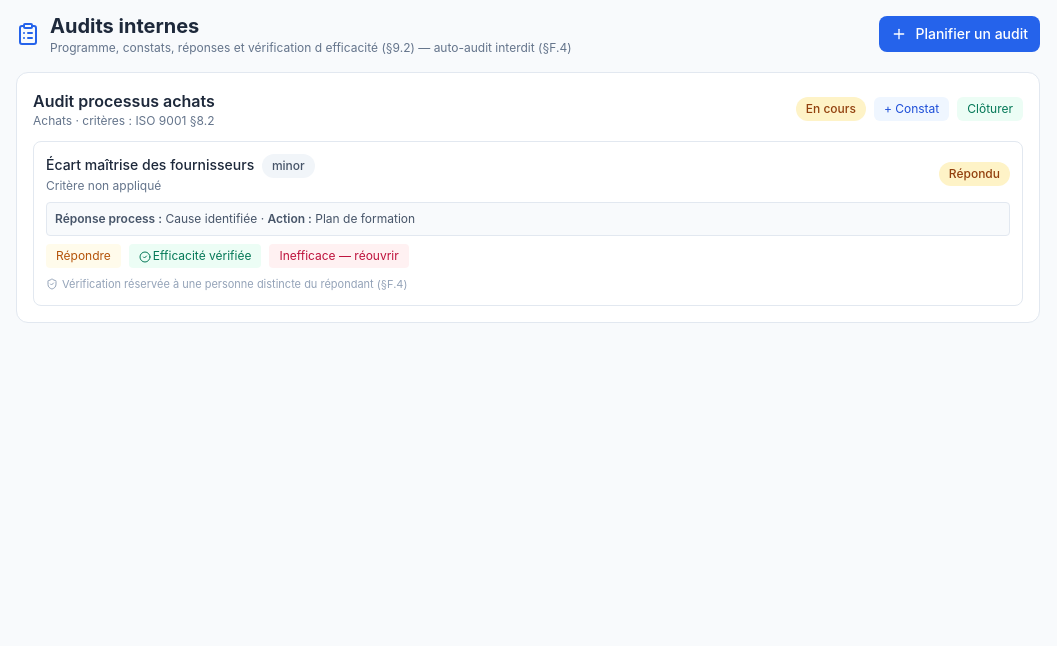
Scenario: Page Audits (§9.2) › un auditeur peut ouvrir le formulaire de planification (auto-audit exclu)
Check: the text "Audit processus achats" is shown, box [33,89,215,113]
Click the button "Planifier un audit" at (960, 34), box [879,16,1040,52]
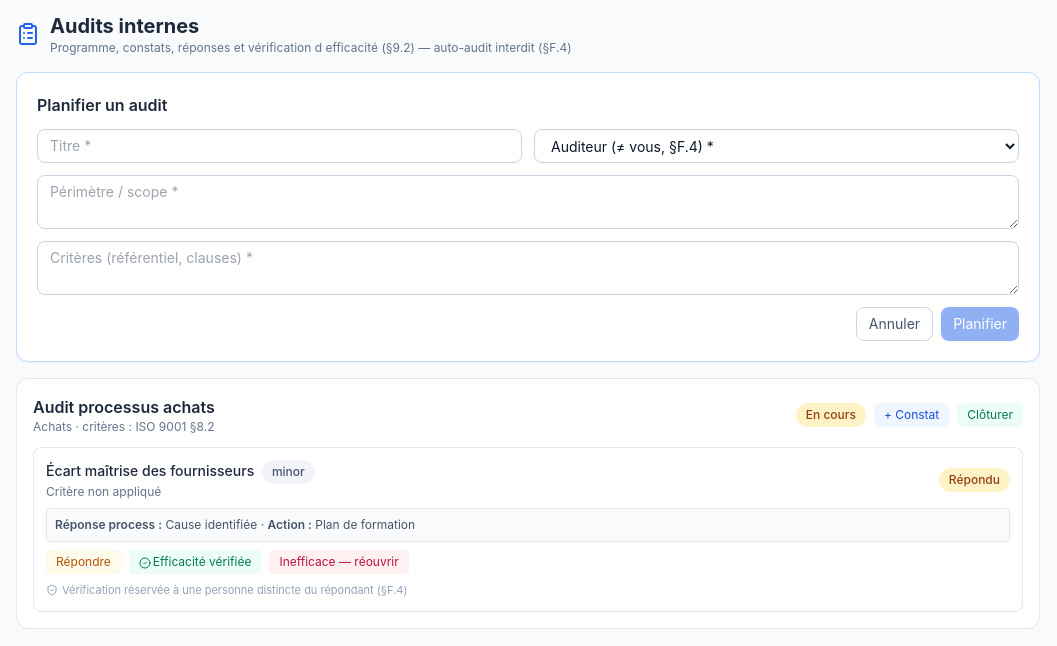
Check: the field with placeholder "Titre *" is shown, box [37,129,522,163]
